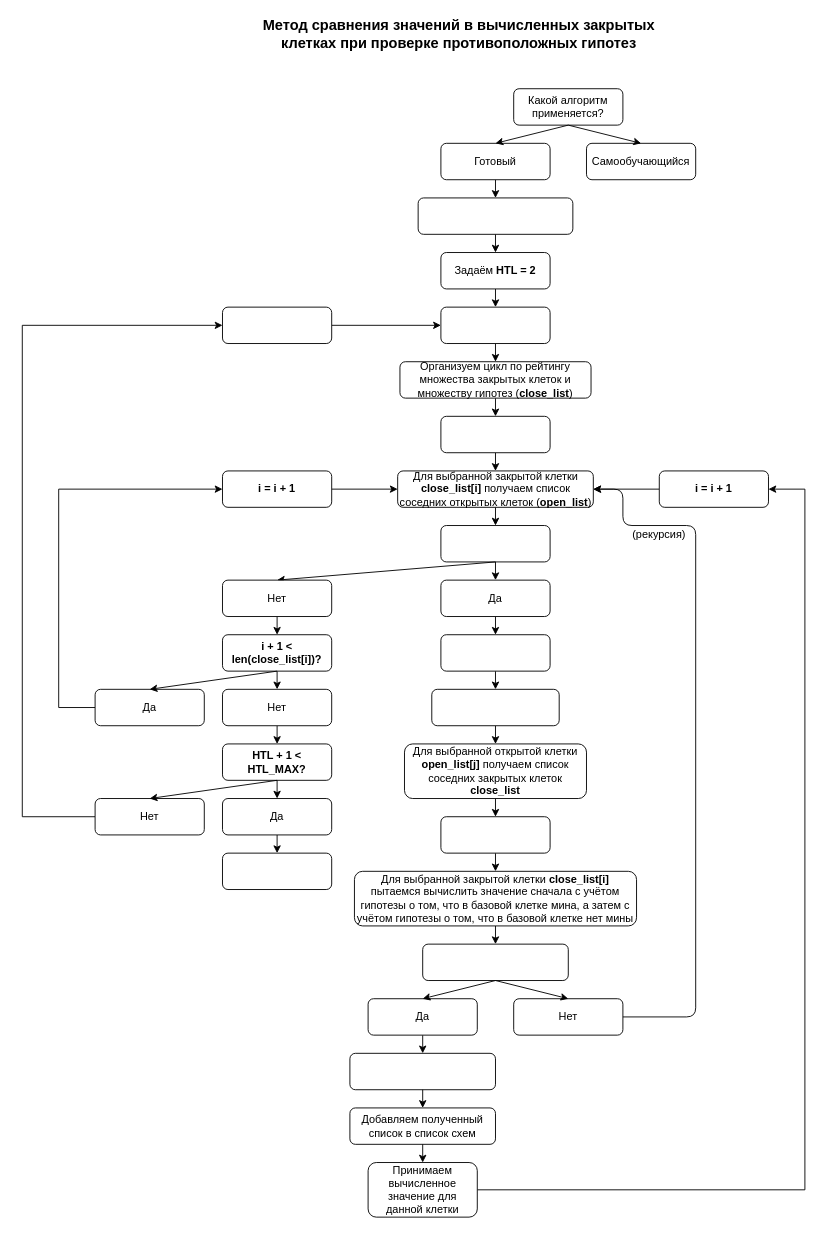
The diagram is 828 pixels wide and 1233 high, and some of its shapes have lost their labels. The centre of each missing label's shape, as x and y in pixels:
"HTL = HTL + 1" goes at pixel 277 325.
"HTL_value < HTL ?" goes at pixel 495 543.
"HTL_value = HTL_value + 1" goes at pixel 495 652.
"Значение в обоих случаях удалось вычислить и эти значения совпадают?" goes at pixel 495 962.
"Метод 2 закончен" goes at pixel 277 871.
"Организуем цикл по close_list" goes at pixel 495 834.
"Организуем цикл по open_list" goes at pixel 495 707.
"Получаем рейтинг множества закрытых клеток ( close_list )" goes at pixel 495 325.
"Получаем список пройденных клеток, начиная с фокусной клетки" goes at pixel 422 1071.
"Устанавливаем HTL_value = 1" goes at pixel 495 434.
"Устанавливаем ограничение на уровень проверки гипотез ( HTL_MAX )" goes at pixel 495 215.
